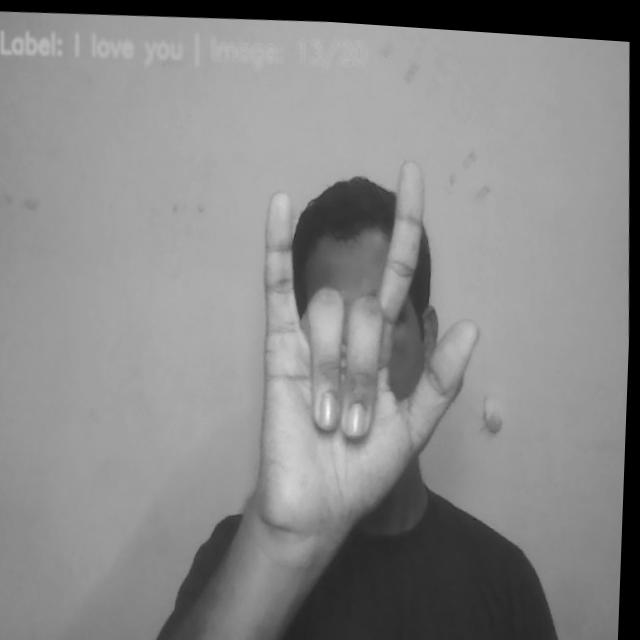I love you: (246, 145, 489, 539)
